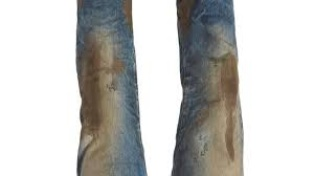earth: (78, 38, 103, 128), (221, 57, 239, 158), (81, 130, 106, 175), (210, 158, 240, 174), (179, 0, 189, 27), (108, 59, 122, 76), (197, 110, 211, 127), (126, 0, 131, 25)
